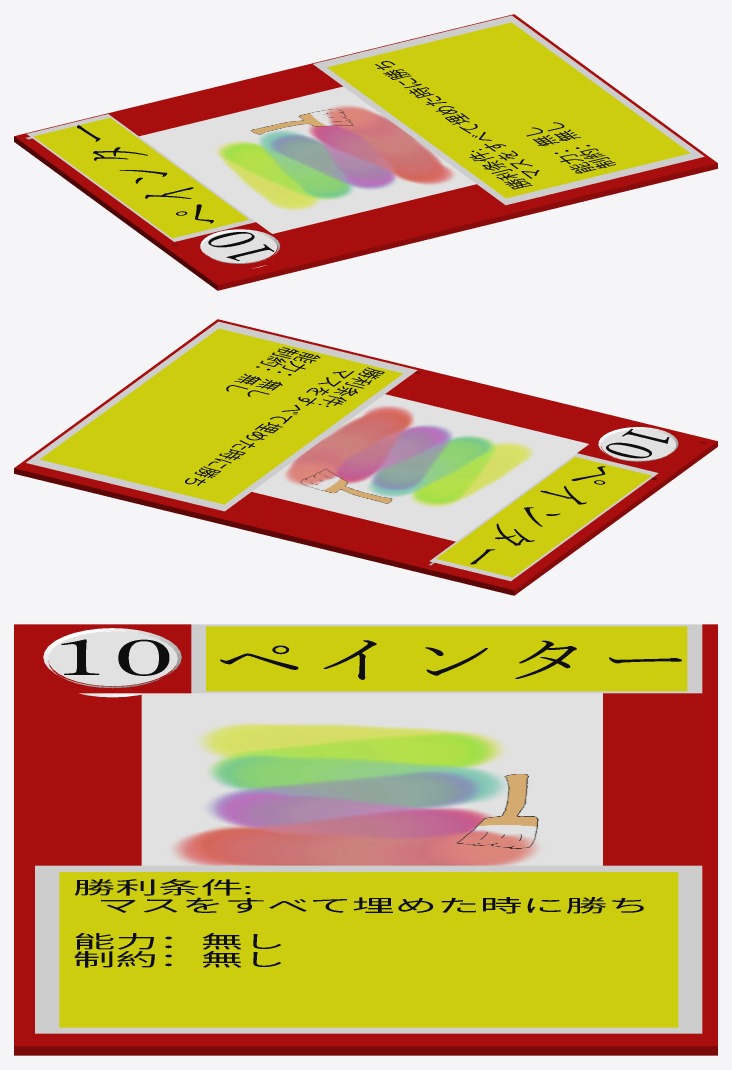
File: ペインター赤.fbx
3 views of the same model, one above another, from view 1: azimuth 30°, elevation 25°; view 2: azimuth 150°, elevation 25°; view 3: azimuth 270°, elevation 25° (orthographic). The views are drawn at different scales.
Parts seen in each view (by area): view 1: 説明欄, 平面.001, カード本体.001, 名前欄, 説明文, 平面, 円, 名前, コスト; view 2: 説明欄, 平面.001, カード本体.001, 名前欄, 説明文, 平面, 円, 名前, コスト; view 3: 説明欄, 平面.001, カード本体.001, 名前欄, 説明文, 平面, 円, 名前, コスト蘭, コスト.
Part boxes in pixels (bbox=[...]): 説明欄: bbox=[313, 15, 704, 205]; 平面.001: bbox=[139, 86, 476, 233]; カード本体.001: bbox=[14, 14, 717, 290]; 名前欄: bbox=[27, 114, 255, 241]; 説明文: bbox=[375, 61, 615, 189]; 平面: bbox=[174, 222, 302, 275]; 円: bbox=[202, 231, 276, 262]; 名前: bbox=[77, 125, 213, 223]; コスト: bbox=[208, 232, 274, 260]; 説明欄: bbox=[26, 321, 417, 511]; 平面.001: bbox=[252, 394, 588, 541]; カード本体.001: bbox=[14, 319, 717, 595]; 名前欄: bbox=[429, 453, 658, 581]; 説明文: bbox=[185, 347, 384, 485]; 平面: bbox=[577, 419, 704, 472]; 円: bbox=[601, 429, 675, 460]; 名前: bbox=[470, 466, 605, 564]; コスト: bbox=[606, 429, 669, 458]; 説明欄: bbox=[35, 865, 702, 1033]; 平面.001: bbox=[141, 693, 602, 865]; カード本体.001: bbox=[14, 624, 717, 1055]; 名前欄: bbox=[191, 624, 702, 693]; 説明文: bbox=[74, 879, 643, 967]; 平面: bbox=[30, 624, 191, 693]; 円: bbox=[48, 631, 177, 686]; 名前: bbox=[220, 640, 681, 679]; コスト蘭: bbox=[43, 628, 181, 697]; コスト: bbox=[61, 639, 169, 675].
Bounding box in the file's own units: 281 × 6.07 × 198.
